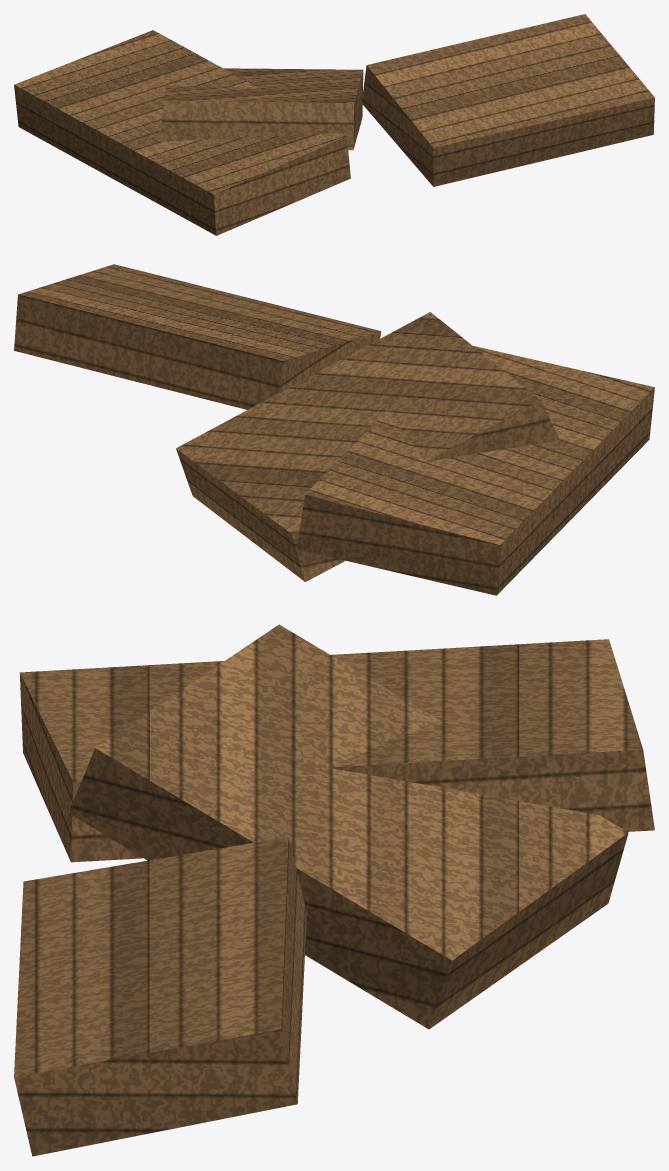
The model's file is find-sherd-old.glb.
3 views of the same model, one above another, from view 1: azimuth 30°, elevation 25°; view 2: azimuth 150°, elevation 25°; view 3: azimuth 270°, elevation 25° (orthographic). The views are drawn at different scales.
Parts seen in each view (by area): view 1: find-sherd; view 2: find-sherd; view 3: find-sherd.
Part boxes in pixels (box(x1,y1,x2,y2)): find-sherd: box(14, 14, 654, 235); find-sherd: box(14, 264, 654, 595); find-sherd: box(14, 624, 654, 1156).
Bounding box in the file's own units: 0.4087 × 0.0863 × 0.2602.
1 material, 1 textured.
